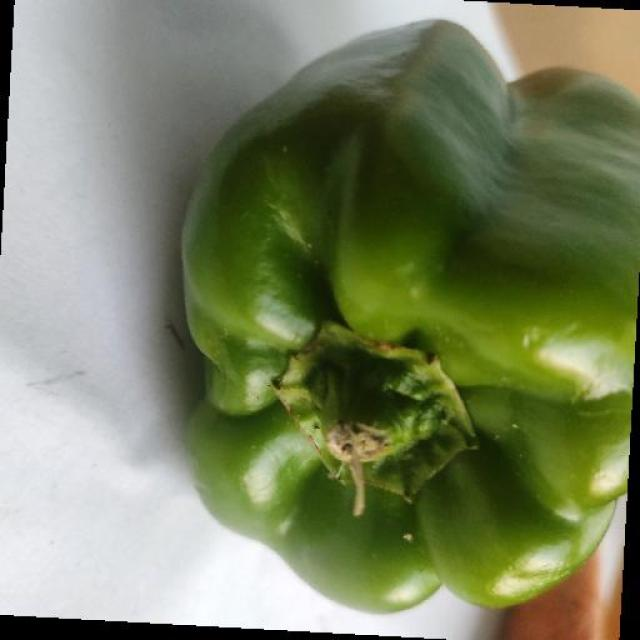Fresh_Capsicum: (161, 75, 623, 572)
